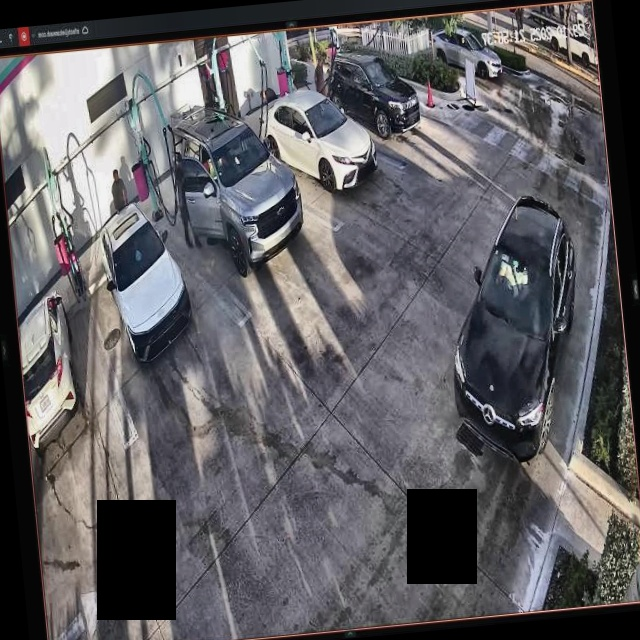Car: (436, 187, 594, 473), (166, 100, 308, 277), (95, 196, 194, 365), (258, 84, 378, 196)
